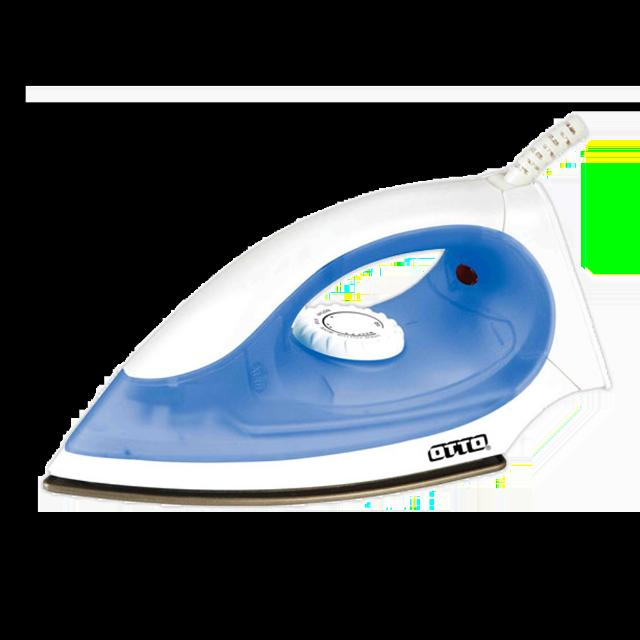Clothes-Iron: (24, 153, 624, 522)
